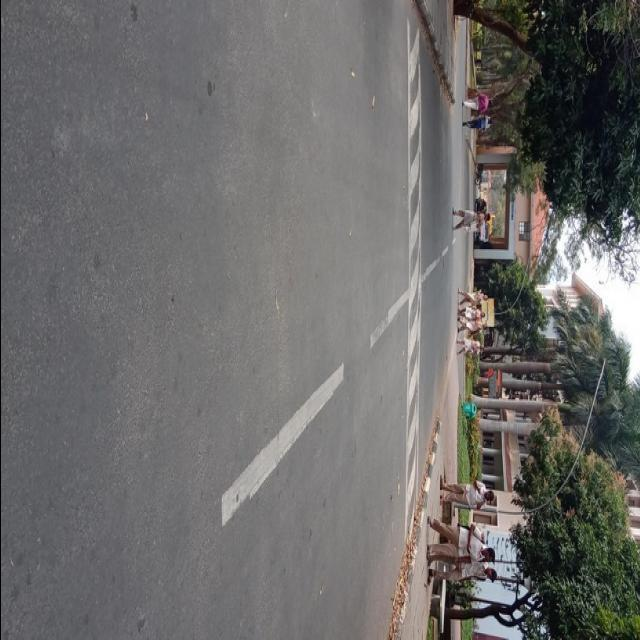speedbreaker: (399, 5, 422, 518)
